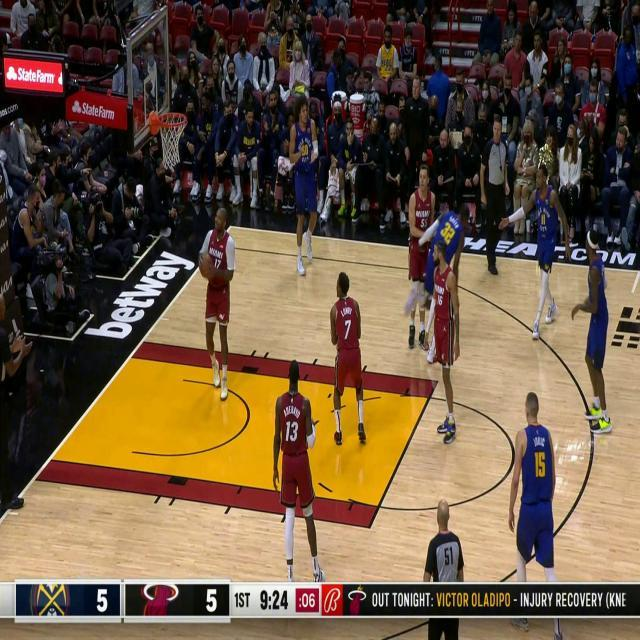rim: (200, 254, 213, 279)
